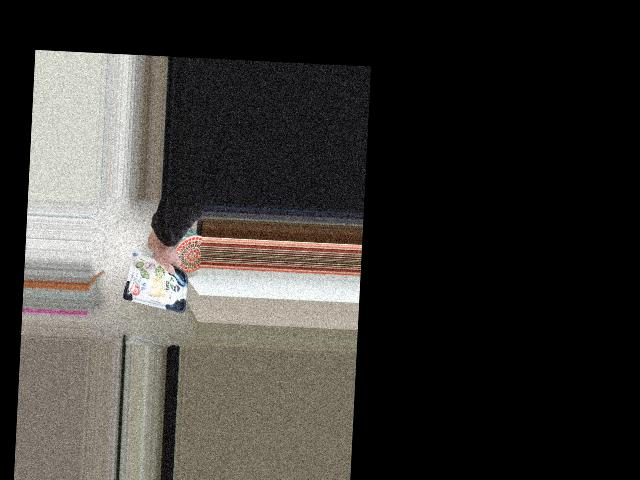cheese: (129, 244, 179, 295)
